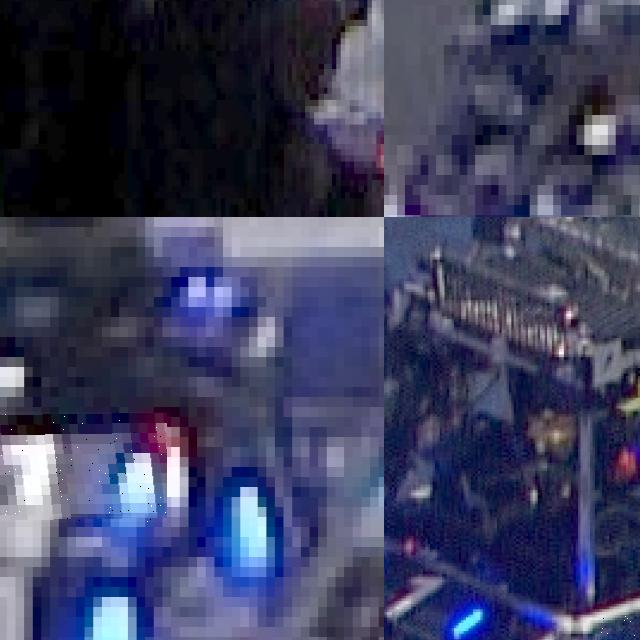B1: (0, 412, 167, 522), (202, 422, 331, 562), (0, 547, 136, 640), (384, 551, 488, 638)
